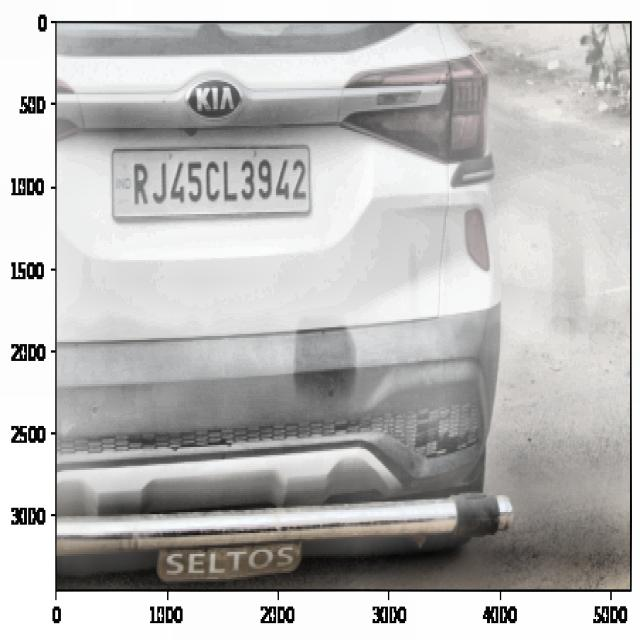license_plate: (126, 153, 312, 215)
